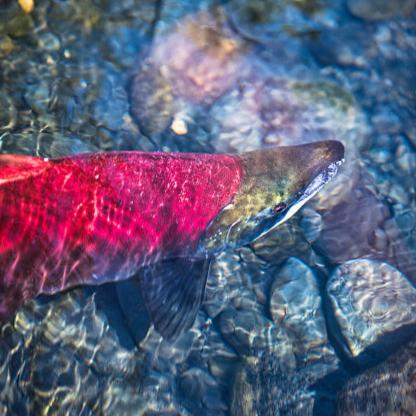sockeye: (0, 128, 344, 313)
